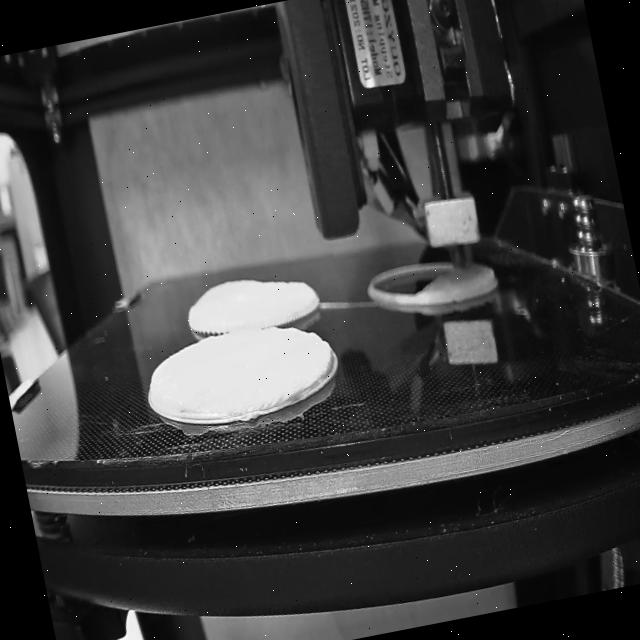over_extrusion: (310, 335, 340, 378)
